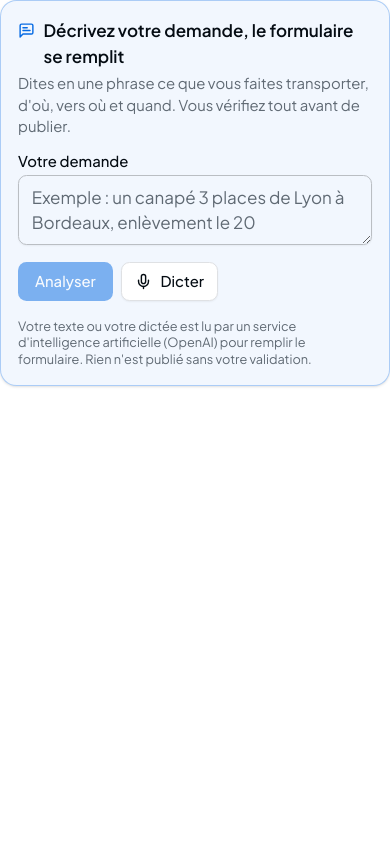
Test: RequestAssistant › shows the reading before writing anything, then fills on request
The image size is (390, 844).
Replace the text in the text box with "deux canapés de Lyon à Bruxelles": (195, 210) 18,175 -> 372,245
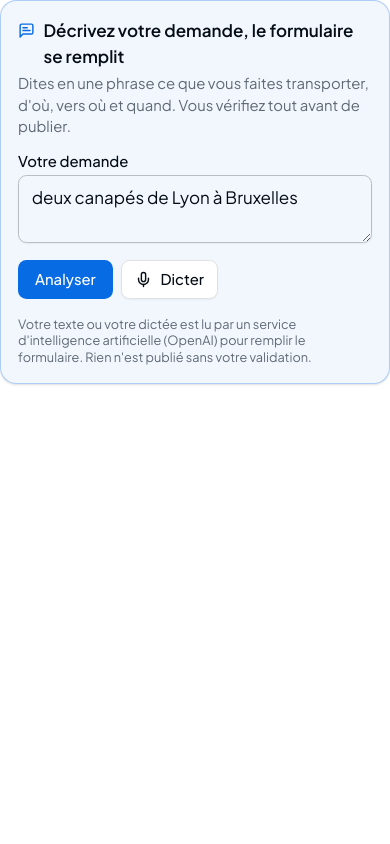
Click the button "Analyser": click(65, 279) 18,260 -> 113,299
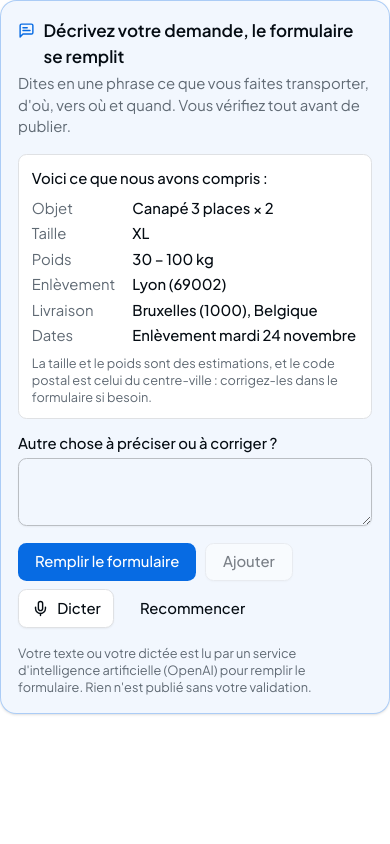
Check: the text "Canapé 3 places × 2" is shown, box 132,198 -> 274,216
Check: the text "XL" is shown, box 132,224 -> 149,242
Check: the text "30 – 100 kg" is shown, box 132,250 -> 214,268
Click the button "Remplir le formulaire": click(107, 562) 18,543 -> 196,581
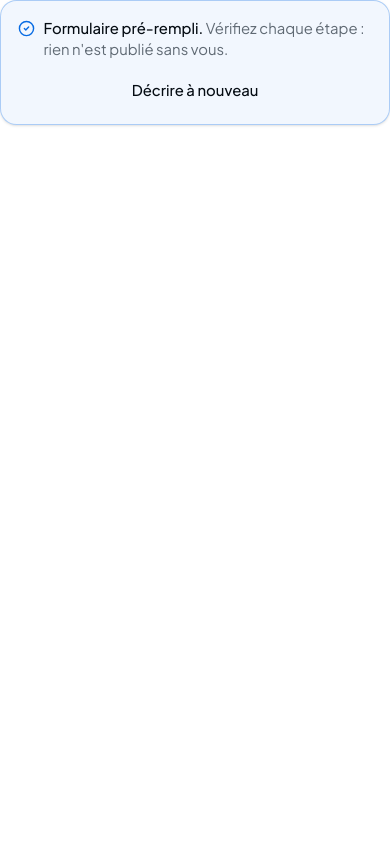
Check: the text "Formulaire pré-rempli." is shown, box 44,19 -> 203,37
